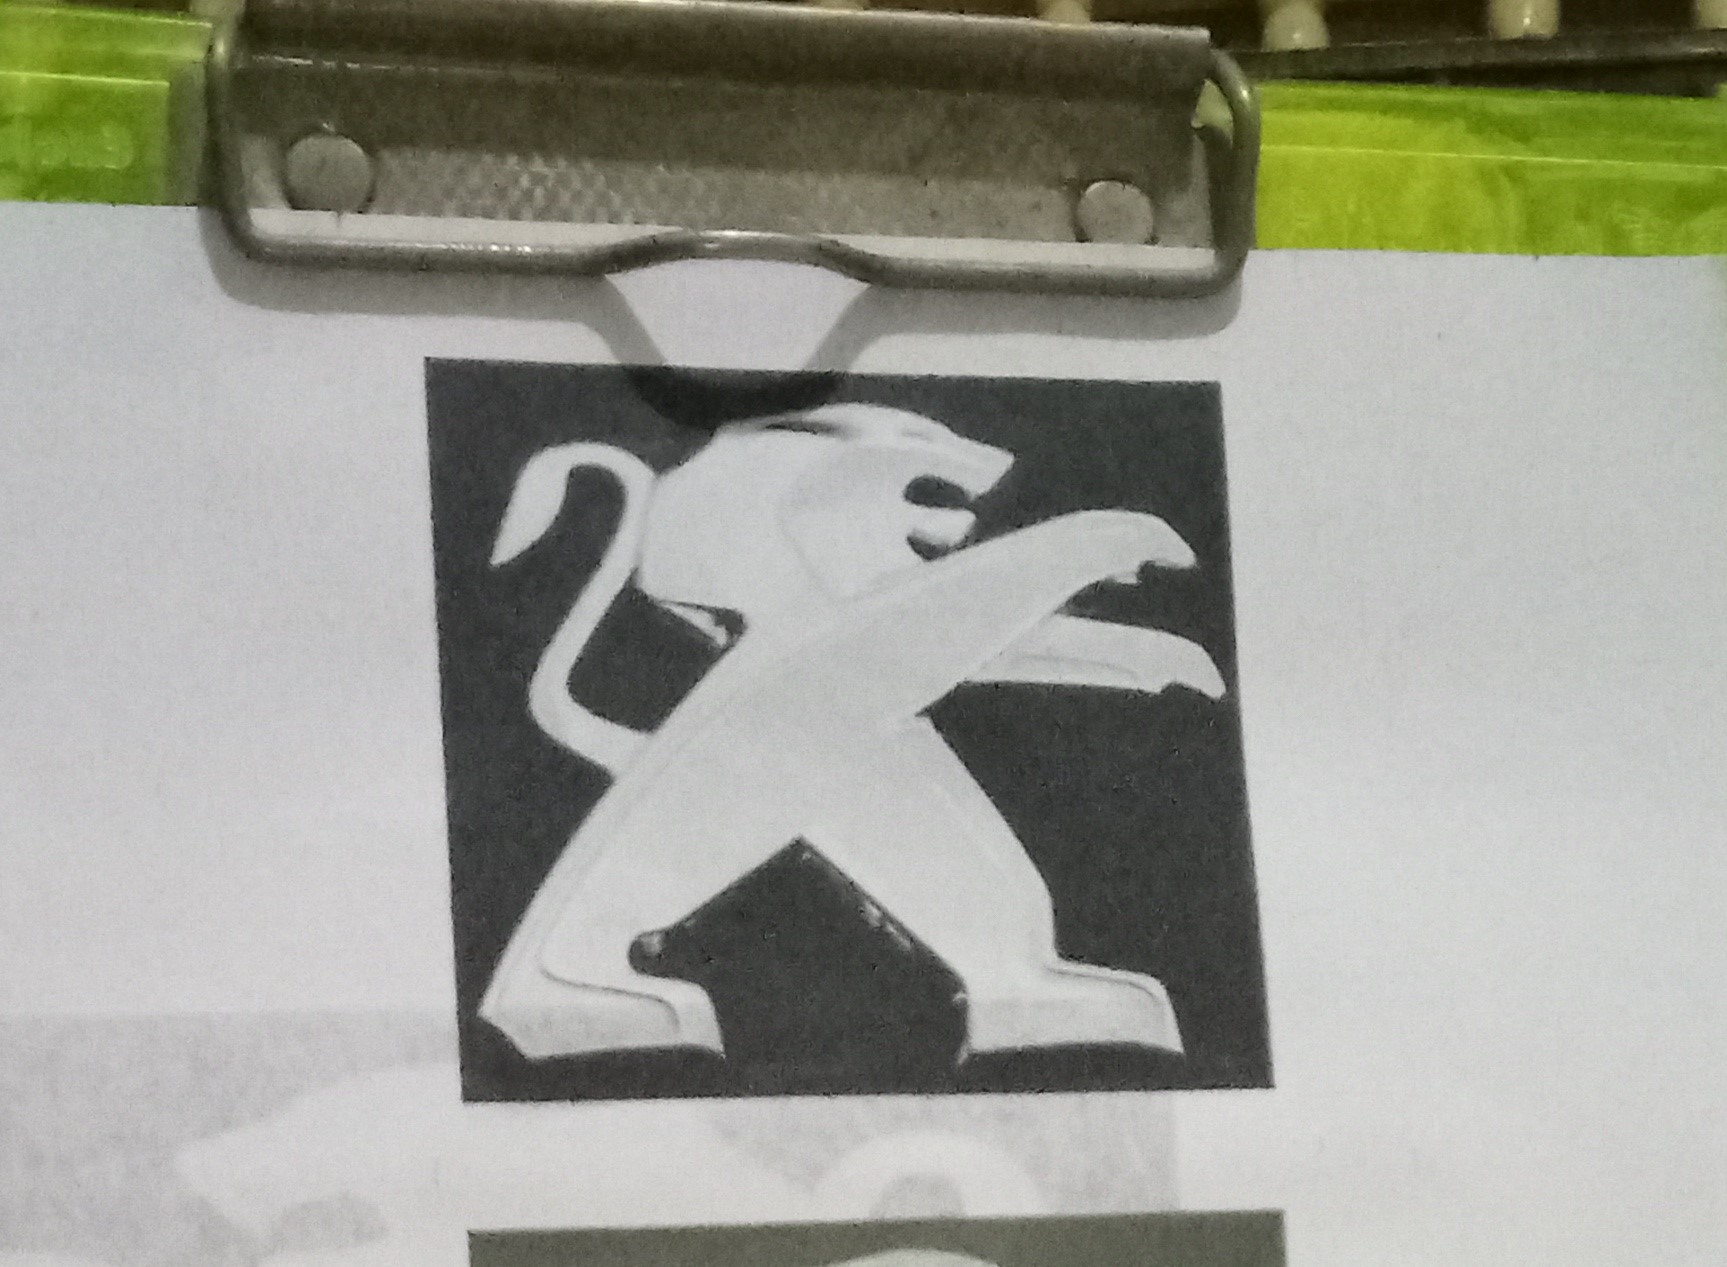Peugeot: (456, 387, 1223, 1065)
